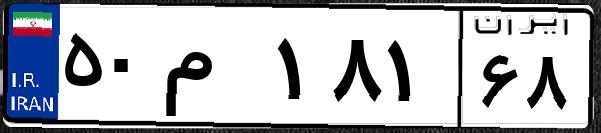0: (110, 28, 158, 98)
1: (270, 28, 330, 110), (385, 28, 445, 110)
5: (57, 26, 110, 100)
6: (475, 38, 525, 113)
8: (330, 28, 385, 110), (525, 38, 570, 115)
م: (158, 20, 270, 120)
